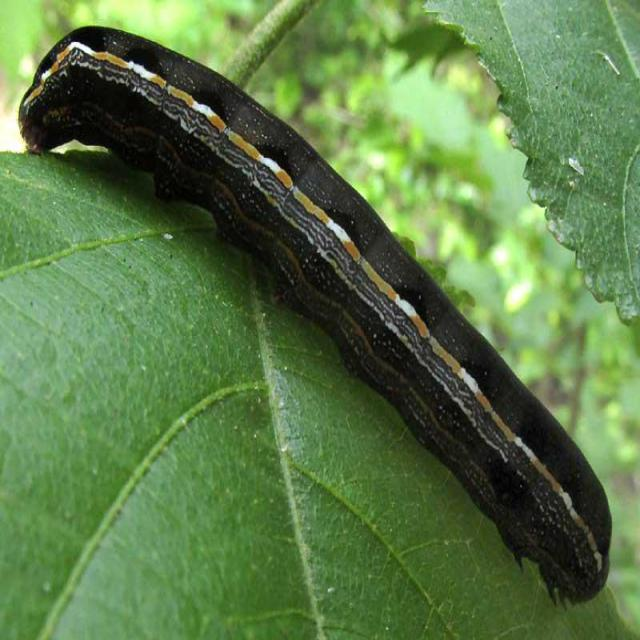BeetArmyWorm-Larva-: (12, 22, 616, 612)
